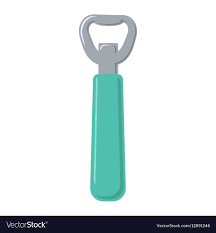bottleopener: (78, 14, 138, 201)
